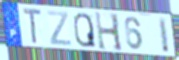6: (124, 16, 145, 51)
H: (94, 11, 125, 53)
I: (158, 17, 171, 55)
Q: (73, 12, 97, 49)
T: (22, 7, 44, 46)
Z: (46, 10, 72, 47)
